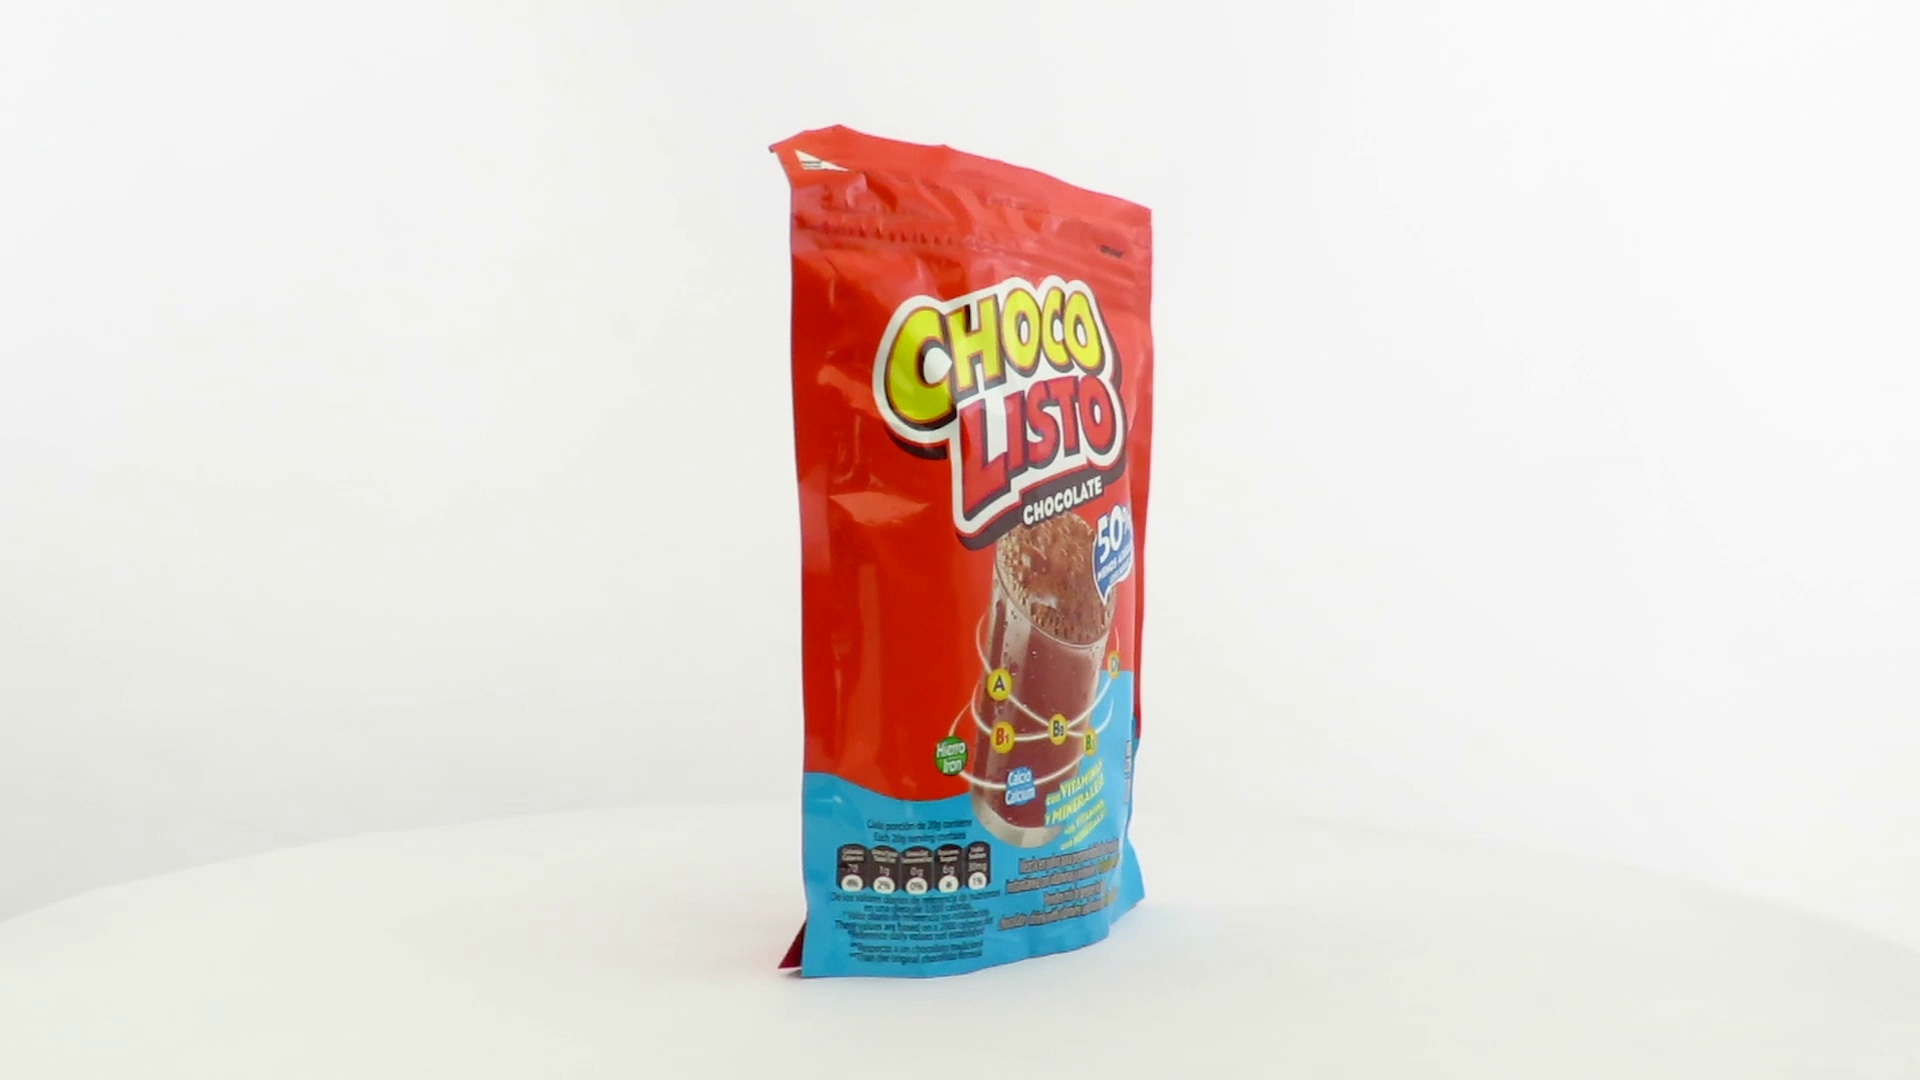COL0170104DYP20000: (764, 119, 1160, 985)
